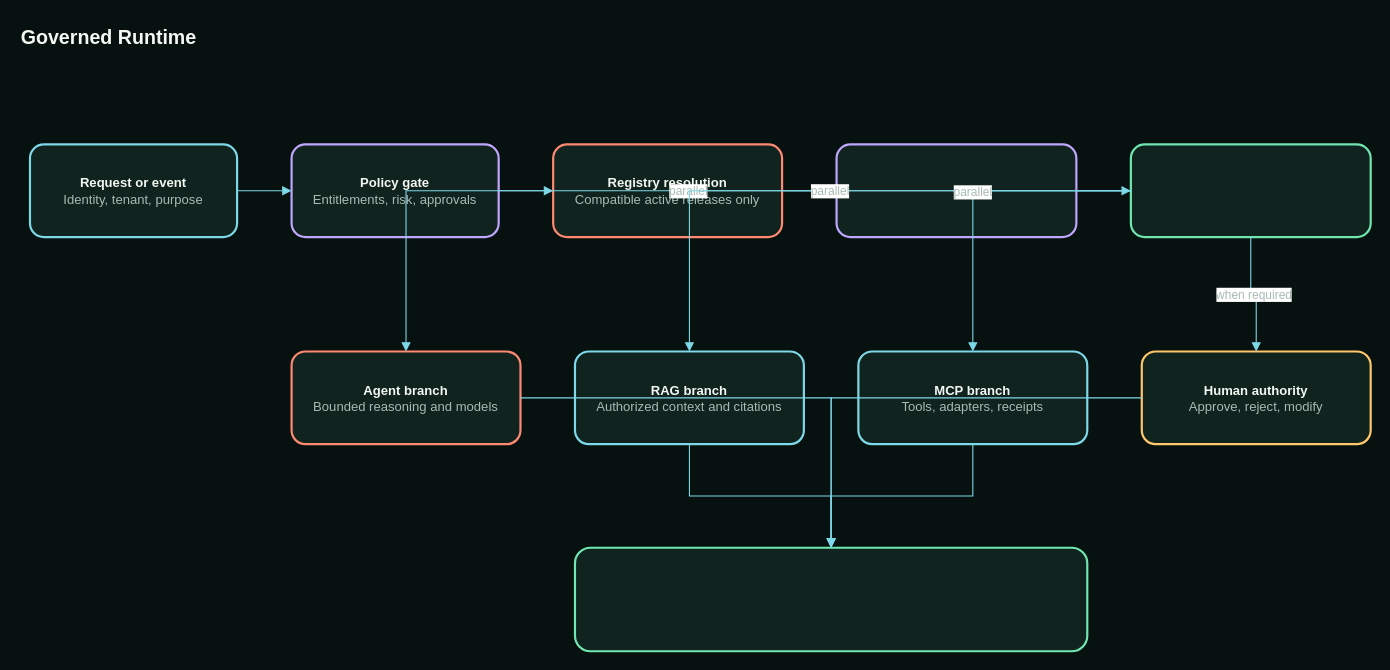
Image size: 1390x670. Some labels were removed from this diagram. Each missing label, with the centre of its shape:
"Durable orchestrator Queues, checkpoints, waits, Saga" belongs at (x=1250, y=190).
"Evidence-backed result Result, lineage, traces, receipts, audit" belongs at (x=830, y=599).
"Immutable plan Exact graph, versions, budget, fallbacks" belongs at (x=956, y=190).
